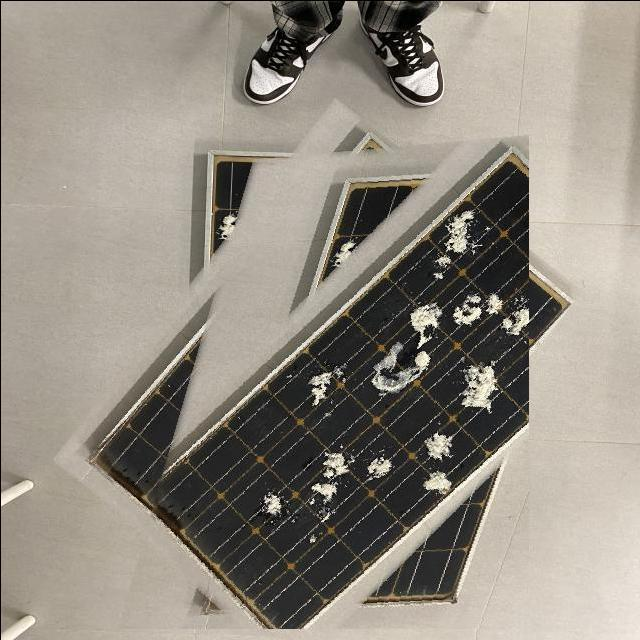Bird-drop: (364, 286, 530, 415), (306, 424, 459, 548), (425, 206, 483, 280), (307, 363, 347, 410), (214, 208, 242, 244), (329, 235, 356, 268), (261, 489, 284, 517)
